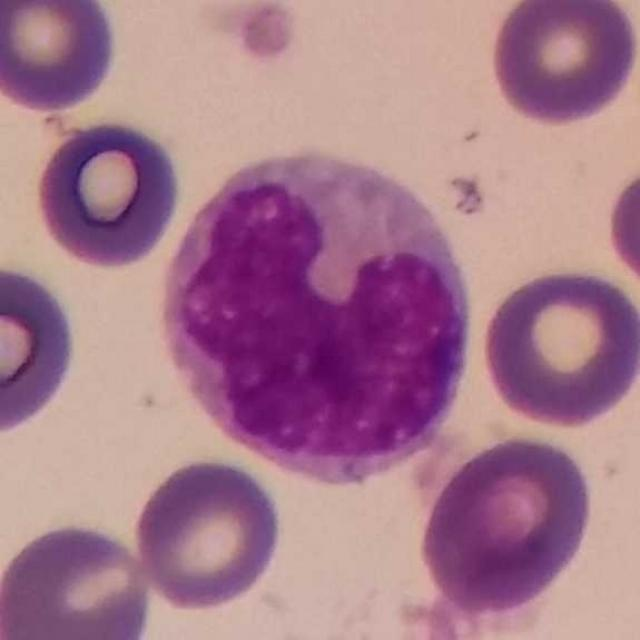Monocyte: (158, 151, 481, 483)
Platelets: (222, 1, 300, 70)
RBC: (413, 428, 600, 619), (475, 262, 640, 430), (129, 452, 287, 613), (29, 113, 186, 274), (485, 0, 640, 129), (0, 517, 156, 640), (0, 257, 82, 442), (1, 0, 123, 115), (603, 154, 640, 305)
